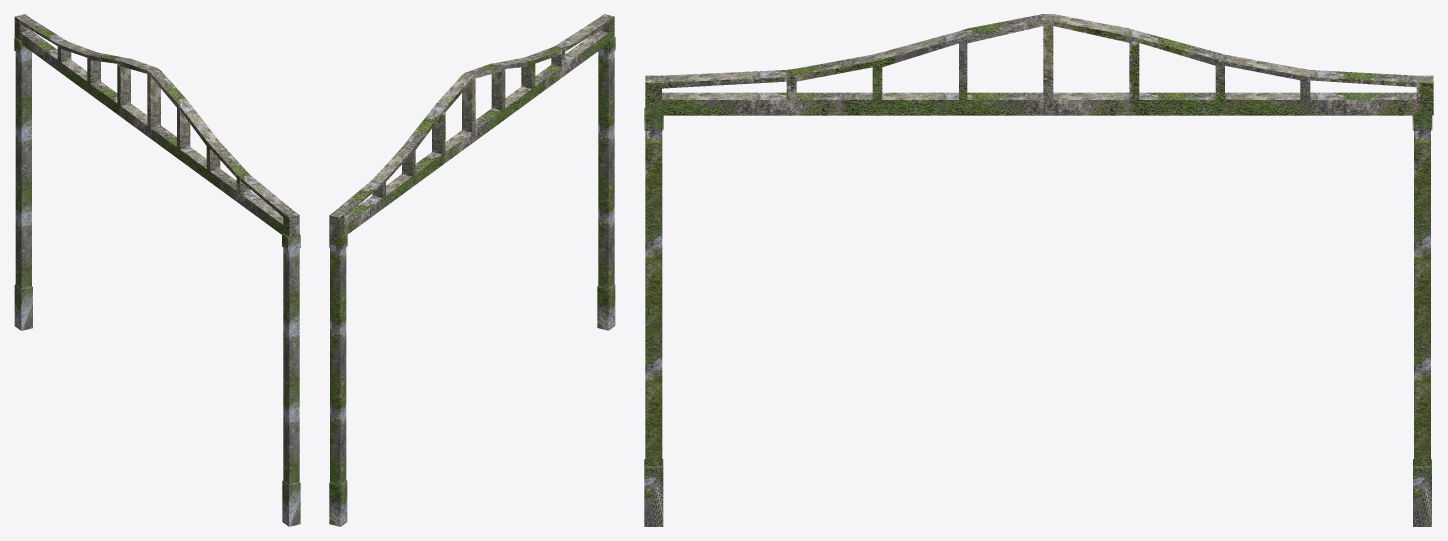
Rendered from Balka_Krysha.fbx.
3 views of the same model, side by side, from view 1: azimuth 30°, elevation 25°; view 2: azimuth 150°, elevation 25°; view 3: azimuth 270°, elevation 25° (orthographic). The views are drawn at different scales.
Visible parts, largest first — view 1: Cube.001; view 2: Cube.001; view 3: Cube.001.
Boxes of the visible parts, <box> form: Cube.001: <box>14,14,300,526</box>; Cube.001: <box>329,14,615,526</box>; Cube.001: <box>644,14,1433,526</box>.
Size of the model in its own units: 24.4 by 651 by 922.
Materials: 2 (2 with a texture image).
